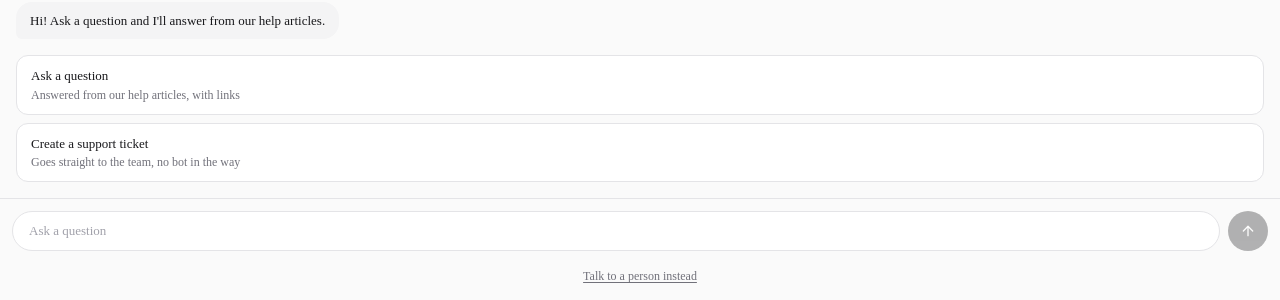
Ask escalation offer › offers to escalate when the answer degrades mid-conversation
The image size is (1280, 300).
Type "How do refunds work?" into the field with placeholder "Ask a question" at (616, 231), box [12,211,1220,251]
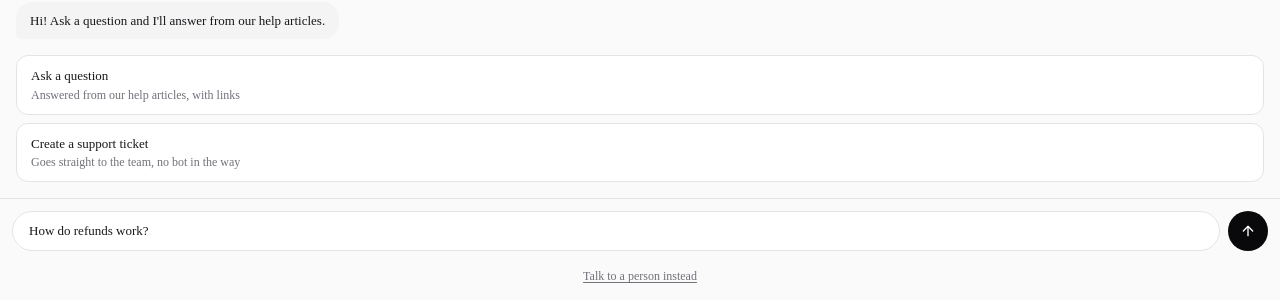
Click the button named "Ask" at (1248, 231), box [1228,211,1268,251]
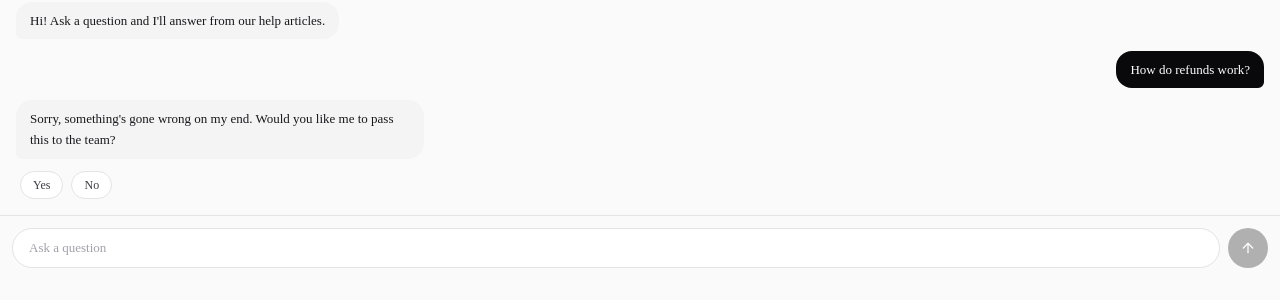
expect the button "No" is shown: met, box [72,170,112,198]
expect the button "Yes" is shown: met, box [20,170,64,198]
